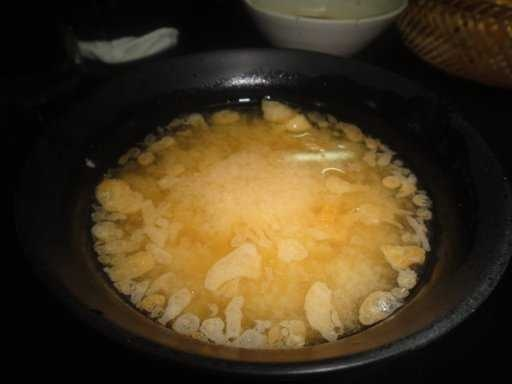soup: (93, 101, 425, 336)
